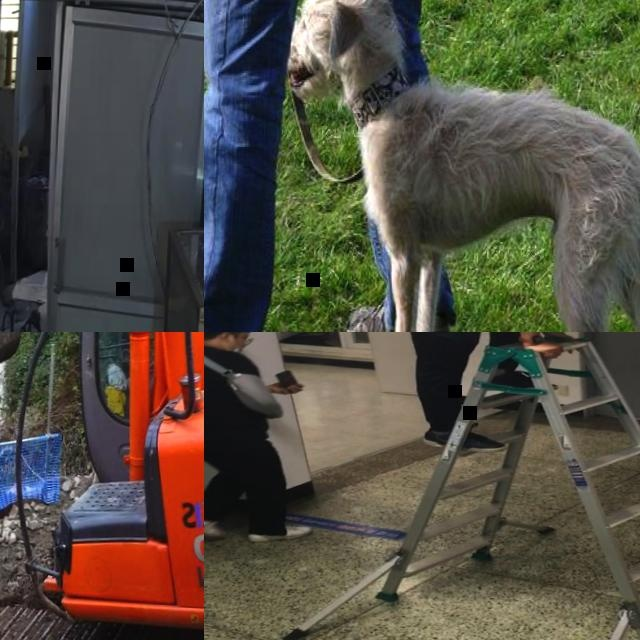NO-Mask: (225, 336, 245, 352)
NO-Safety Vest: (204, 352, 245, 439)
Person: (204, 0, 476, 332), (367, 332, 640, 458), (204, 332, 322, 543)
machinery: (0, 332, 204, 640)
